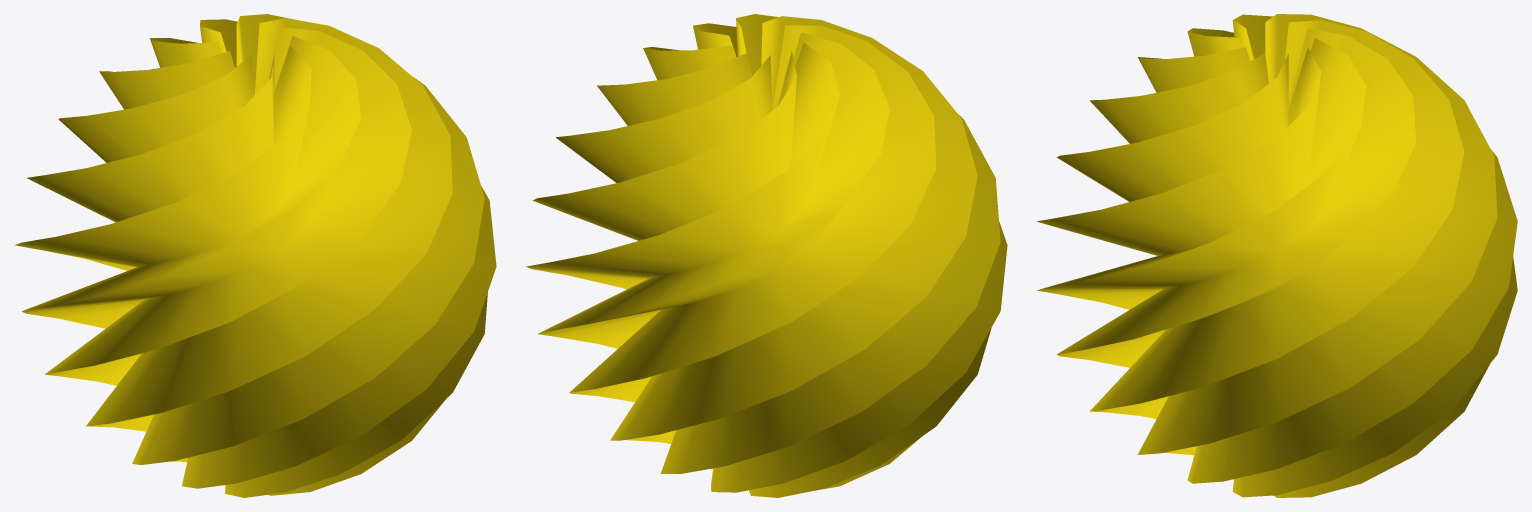
File: Star.fbx
The picture shows the model from 3 angles, left to right: view 1: azimuth 30°, elevation 25°; view 2: azimuth 150°, elevation 25°; view 3: azimuth 270°, elevation 25°; orthographic projection.
Parts seen in each view (by area): view 1: pSphere1; view 2: pSphere1; view 3: pSphere1.
Boxes of the visible parts, box(x1,y1,x2,y2) form: pSphere1: box(15, 14, 496, 497); pSphere1: box(526, 14, 1007, 497); pSphere1: box(1036, 14, 1517, 497).
Size of the model in its own units: 3.18 by 3.14 by 3.14.
